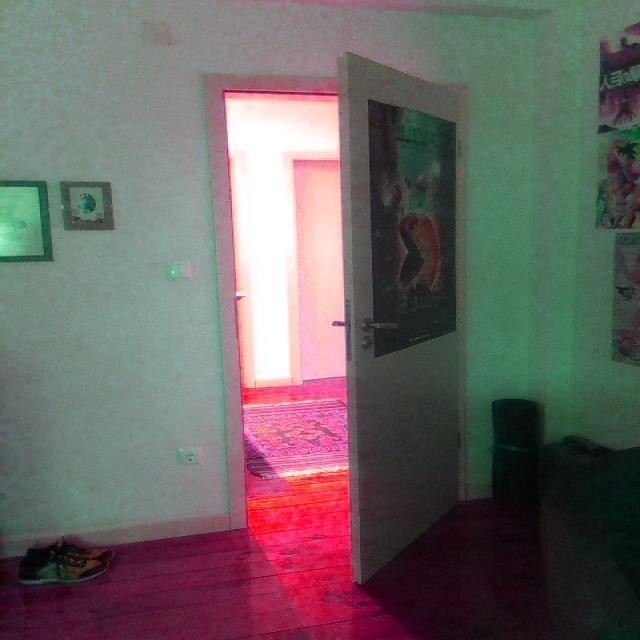door: (339, 50, 466, 585)
